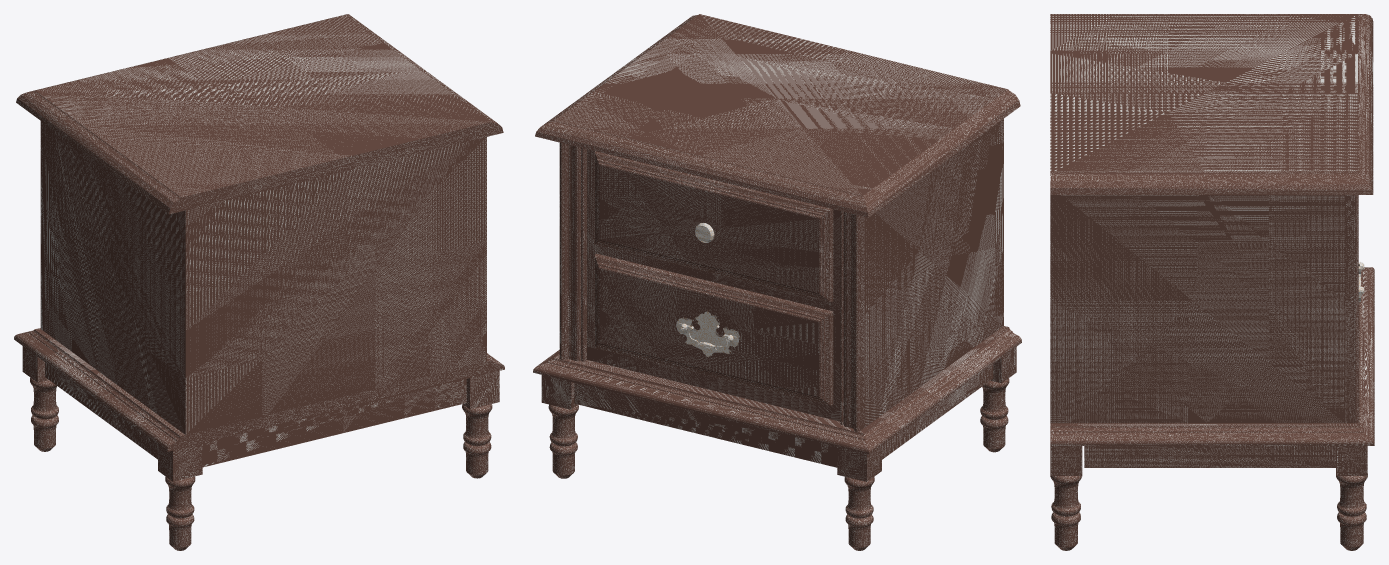
3 renders of one model, left to right at view 1: azimuth 30°, elevation 25°; view 2: azimuth 150°, elevation 25°; view 3: azimuth 270°, elevation 25°, orthographic. The views are drawn at different scales.
Parts seen in each view (by area): view 1: mesh22_mesh22-geometry, mesh14_mesh14-geometry, mesh11_mesh11-geometry, mesh13_mesh13-geometry, mesh1_mesh1-geometry, mesh3_mesh3-geometry, mesh16_mesh16-geometry, mesh19_mesh19-geometry, mesh12_mesh12-geometry, mesh2_mesh2-geometry, mesh4_mesh4-geometry, mesh20_mesh20-geometry; view 2: mesh14_mesh14-geometry, mesh22_mesh22-geometry, mesh17_mesh17-geometry, mesh18_mesh18-geometry, mesh11_mesh11-geometry, mesh23_mesh23-geometry, mesh21_mesh21-geometry, mesh2_mesh2-geometry, mesh9_mesh9-geometry, mesh19_mesh19-geometry, mesh16_mesh16-geometry, mesh1_mesh1-geometry (+4 smaller); view 3: mesh22_mesh22-geometry, mesh14_mesh14-geometry, mesh11_mesh11-geometry, mesh15_mesh15-geometry, mesh23_mesh23-geometry, mesh3_mesh3-geometry, mesh9_mesh9-geometry, mesh4_mesh4-geometry, mesh10_mesh10-geometry.
Part boxes in pixels (x1=…): mesh22_mesh22-geometry: x1=46, y1=125, x2=486, y2=434; mesh14_mesh14-geometry: x1=16, y1=14, x2=503, y2=214; mesh11_mesh11-geometry: x1=14, y1=328, x2=504, y2=451; mesh13_mesh13-geometry: x1=202, y1=379, x2=466, y2=467; mesh1_mesh1-geometry: x1=165, y1=476, x2=195, y2=550; mesh3_mesh3-geometry: x1=462, y1=404, x2=492, y2=478; mesh16_mesh16-geometry: x1=45, y1=362, x2=157, y2=459; mesh19_mesh19-geometry: x1=30, y1=377, x2=58, y2=451; mesh12_mesh12-geometry: x1=158, y1=443, x2=202, y2=481; mesh2_mesh2-geometry: x1=40, y1=121, x2=45, y2=332; mesh4_mesh4-geometry: x1=463, y1=371, x2=499, y2=409; mesh20_mesh20-geometry: x1=22, y1=346, x2=48, y2=382; mesh14_mesh14-geometry: x1=535, y1=14, x2=1020, y2=217; mesh22_mesh22-geometry: x1=587, y1=119, x2=1003, y2=427; mesh17_mesh17-geometry: x1=594, y1=151, x2=833, y2=301; mesh18_mesh18-geometry: x1=594, y1=253, x2=833, y2=405; mesh11_mesh11-geometry: x1=533, y1=326, x2=1021, y2=454; mesh23_mesh23-geometry: x1=559, y1=142, x2=586, y2=361; mesh21_mesh21-geometry: x1=574, y1=383, x2=837, y2=467; mesh2_mesh2-geometry: x1=840, y1=211, x2=864, y2=431; mesh9_mesh9-geometry: x1=548, y1=404, x2=578, y2=478; mesh19_mesh19-geometry: x1=844, y1=477, x2=874, y2=550; mesh16_mesh16-geometry: x1=882, y1=364, x2=993, y2=459; mesh1_mesh1-geometry: x1=980, y1=378, x2=1009, y2=452; mesh22_mesh22-geometry: x1=1050, y1=195, x2=1345, y2=423; mesh14_mesh14-geometry: x1=1050, y1=14, x2=1373, y2=194; mesh11_mesh11-geometry: x1=1050, y1=267, x2=1374, y2=445; mesh15_mesh15-geometry: x1=1084, y1=446, x2=1335, y2=467; mesh23_mesh23-geometry: x1=1345, y1=195, x2=1358, y2=423; mesh3_mesh3-geometry: x1=1050, y1=476, x2=1082, y2=550; mesh9_mesh9-geometry: x1=1336, y1=474, x2=1367, y2=550; mesh4_mesh4-geometry: x1=1050, y1=446, x2=1082, y2=475; mesh10_mesh10-geometry: x1=1336, y1=446, x2=1367, y2=475.
Bounding box in the file's own units: 0.6142 × 0.623 × 0.4843.
